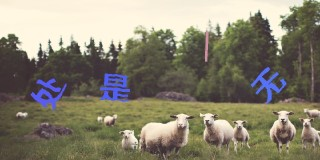一: (204, 31, 209, 62)
处: (31, 77, 67, 110)
无: (250, 66, 287, 103)
是: (99, 73, 130, 102)
